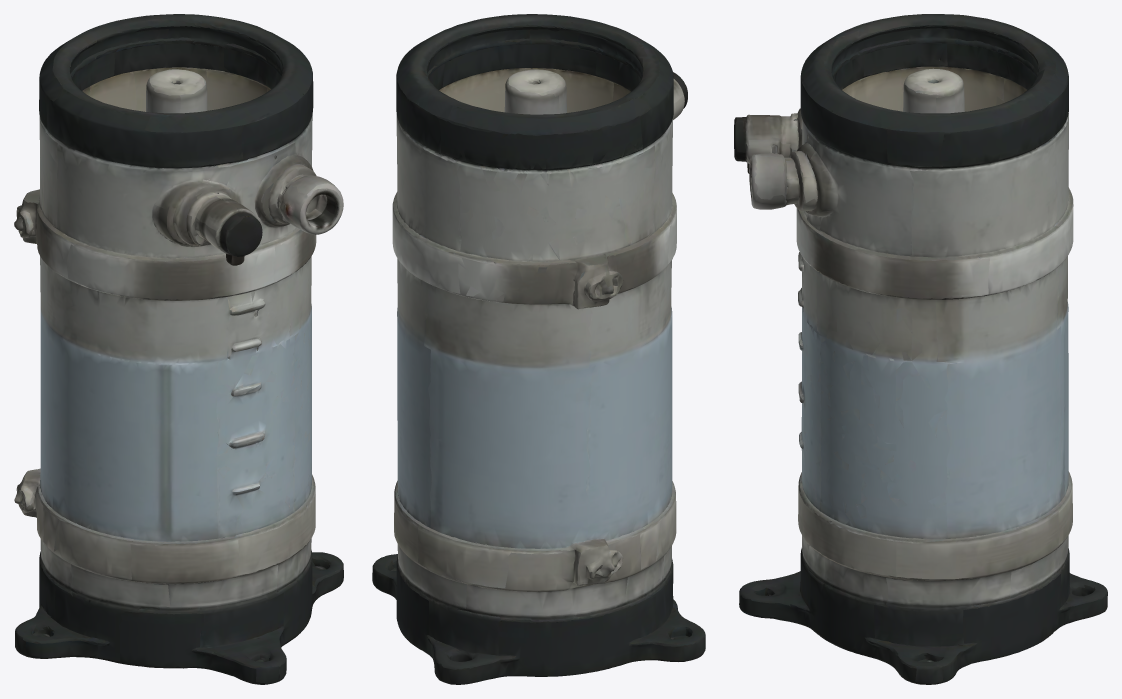
3 renders of one model, left to right at view 1: azimuth 30°, elevation 25°; view 2: azimuth 150°, elevation 25°; view 3: azimuth 270°, elevation 25°, orthographic.
Visible parts, largest first — view 1: geometry_0; view 2: geometry_0; view 3: geometry_0.
Boxes of the visible parts, x1=… form: geometry_0: x1=14, y1=14, x2=343, y2=684; geometry_0: x1=372, y1=14, x2=705, y2=684; geometry_0: x1=734, y1=14, x2=1107, y2=684.
Size of the model in its own units: 0.2334 by 0.38 by 0.2367.
Materials: 1 (1 with a texture image).
